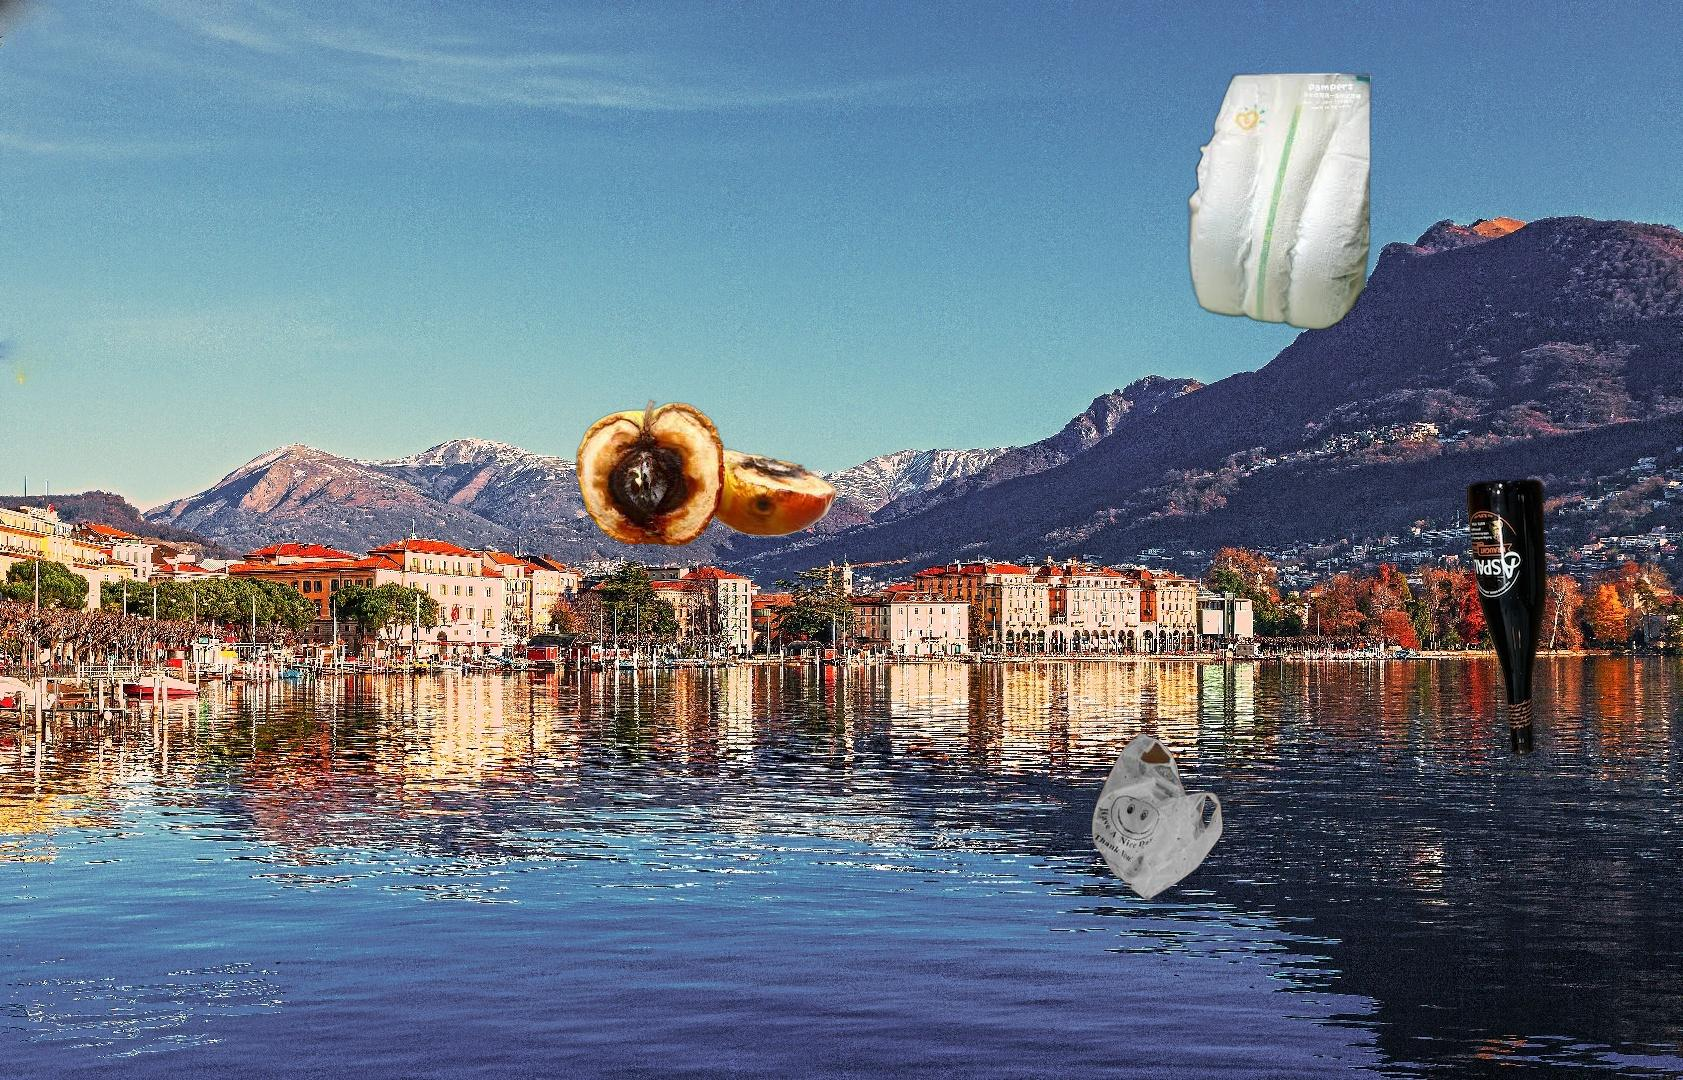biological: (573, 394, 843, 549)
glass: (1462, 472, 1551, 762)
plastic-bag: (1091, 731, 1224, 903)
trash: (1183, 72, 1371, 337)
